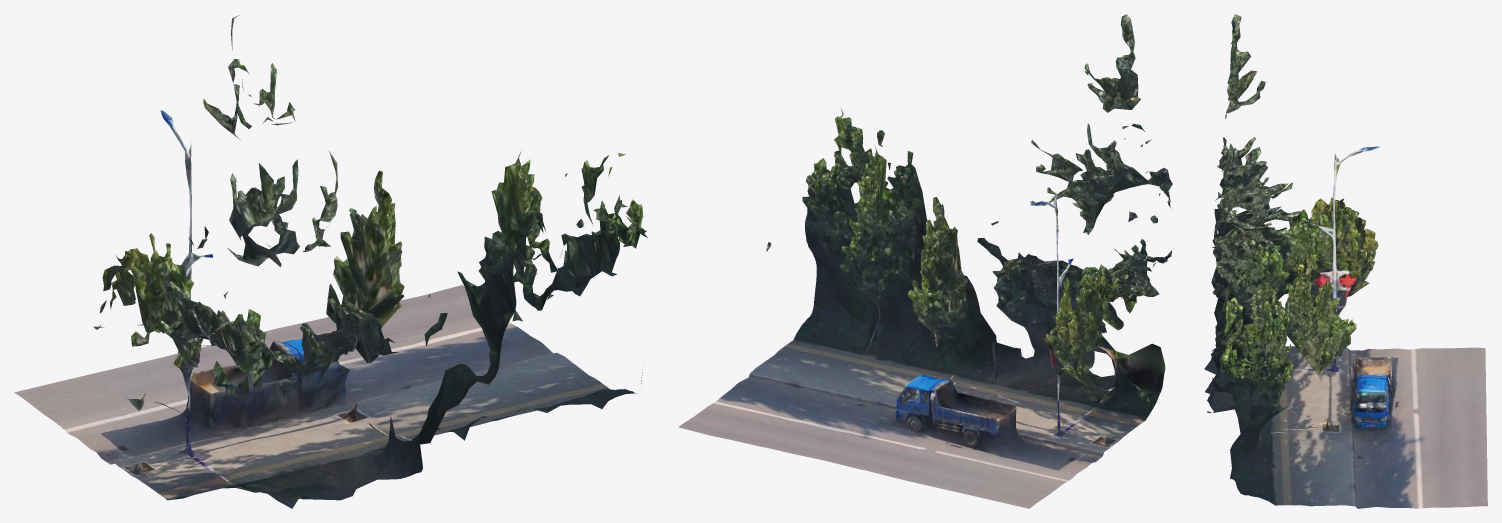
The model's file is Tile_+006_+007_L21_000220t5.glb.
3 views of the same model, side by side, from view 1: azimuth 30°, elevation 25°; view 2: azimuth 150°, elevation 25°; view 3: azimuth 270°, elevation 25° (orthographic). The views are drawn at different scales.
Visible parts, largest first — view 1: rtc; view 2: rtc; view 3: rtc.
Boxes of the visible parts, left/top/right/bottom form: rtc: left=14, top=14, right=647, bottom=508; rtc: left=678, top=14, right=1172, bottom=508; rtc: left=1204, top=14, right=1487, bottom=508.
Bounding box in the file's own units: 17.84 × 18.96 × 13.66.
Materials: 1 (1 with a texture image).
